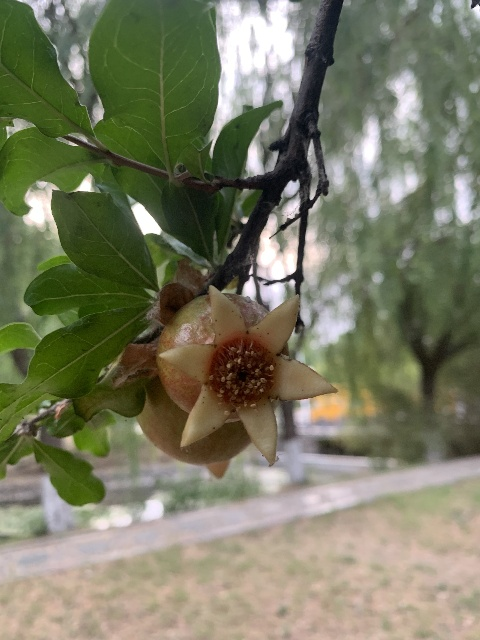early-fruit: (155, 280, 337, 468), (137, 379, 272, 480)
